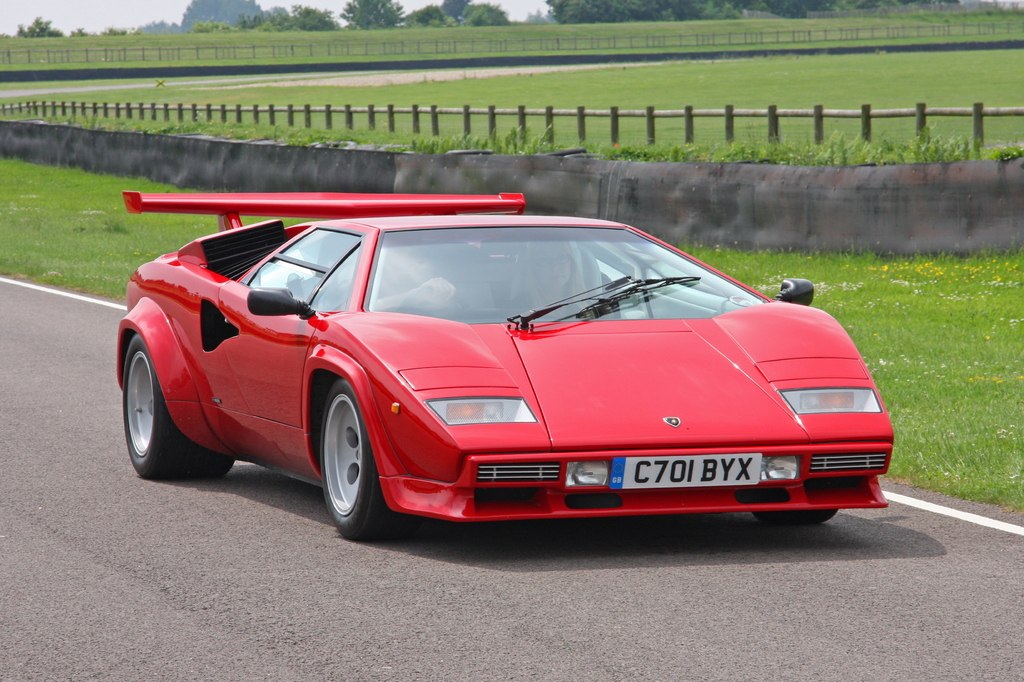Car: (107, 185, 894, 543)
